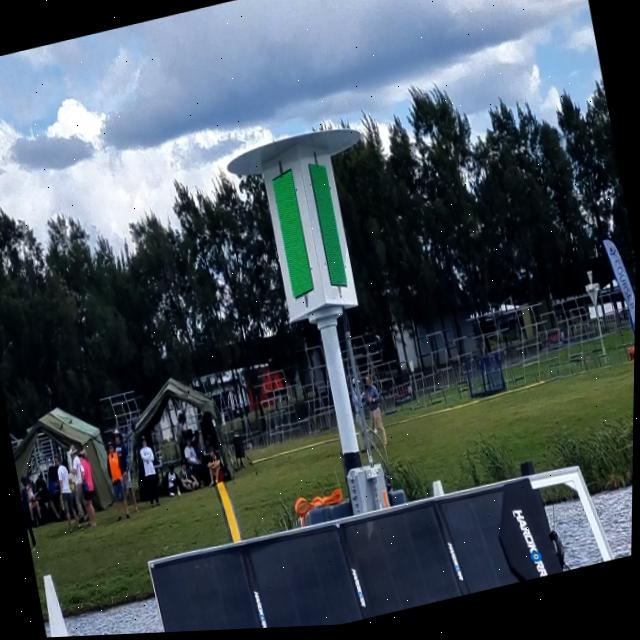led: (265, 167, 323, 312), (302, 152, 355, 302)
